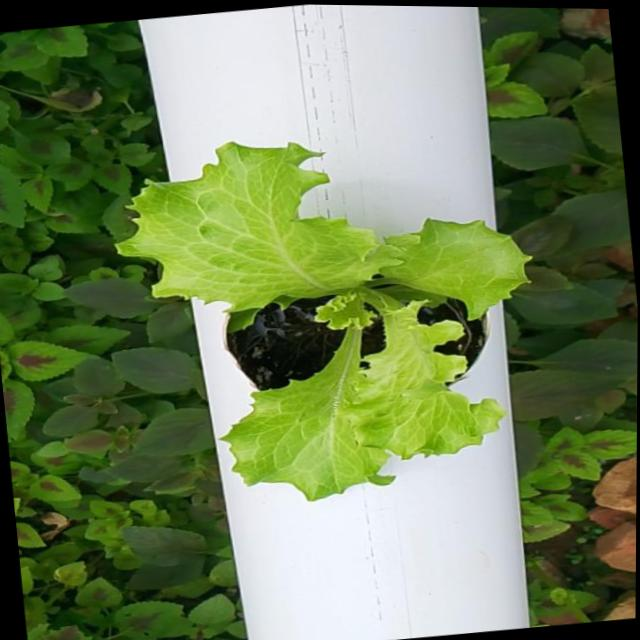Baby: (136, 138, 547, 493)
